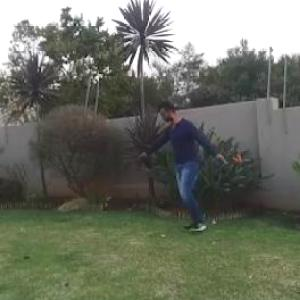land: (116, 85, 251, 251)
